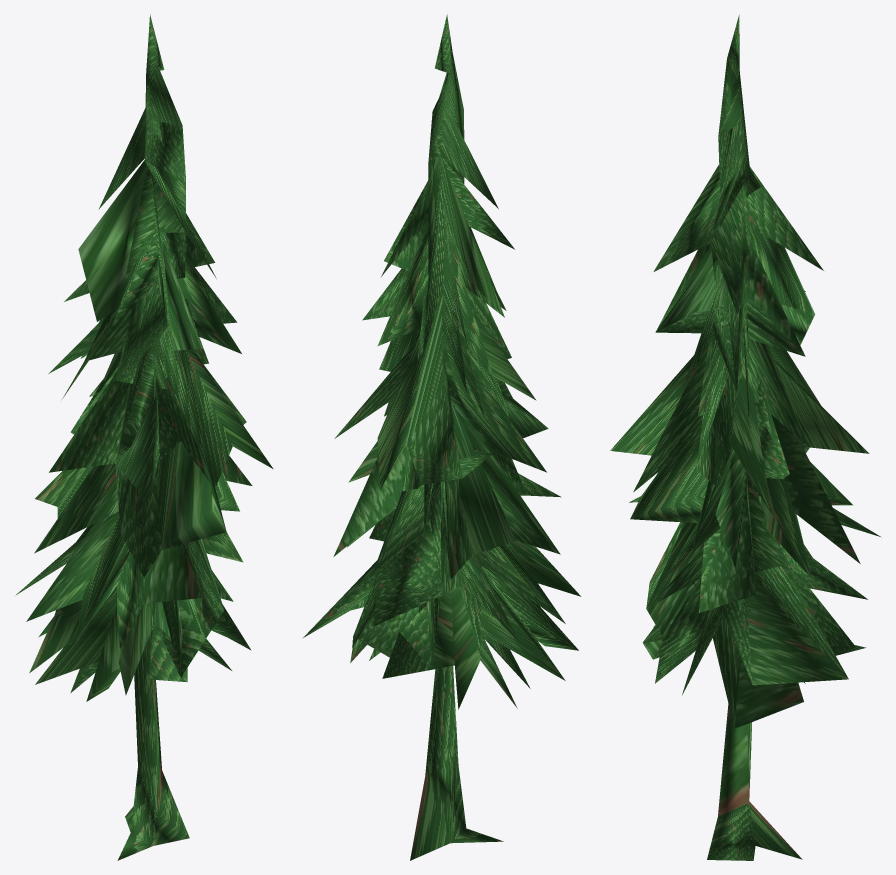
File: pine_far.glb
3 renders of one model, left to right at view 1: azimuth 30°, elevation 25°; view 2: azimuth 150°, elevation 25°; view 3: azimuth 270°, elevation 25°, orthographic. The views are drawn at different scales.
Bounding box in the file's own units: 0.2681 × 0.9517 × 0.2783.
1 material, 1 textured.
